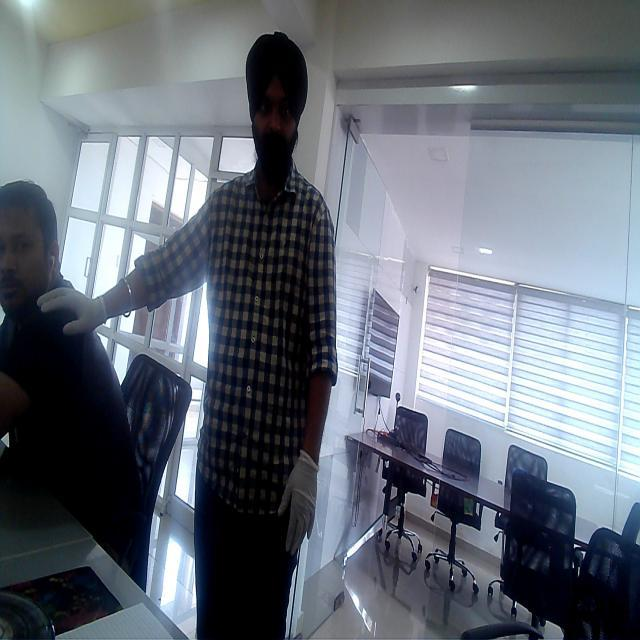with_gloves: (274, 436, 326, 558), (36, 277, 116, 338)
